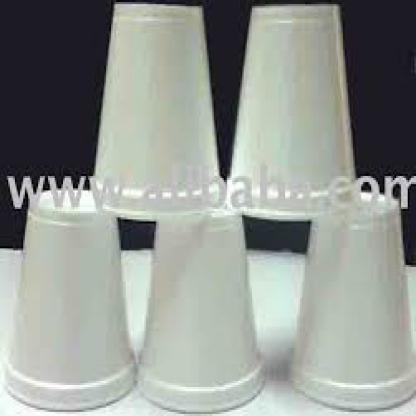paper: (3, 188, 134, 410), (220, 0, 353, 218), (88, 2, 222, 215), (134, 209, 265, 414), (292, 186, 414, 406)
